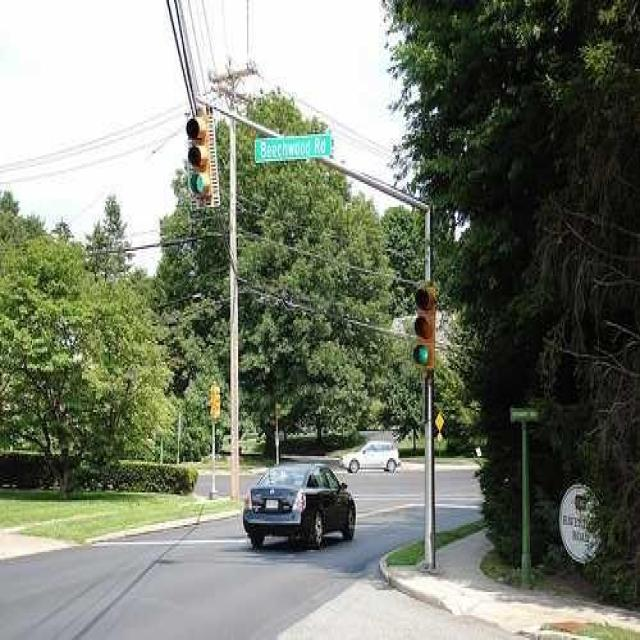Traffic Light -Green-: (186, 114, 214, 205), (411, 282, 438, 372)
